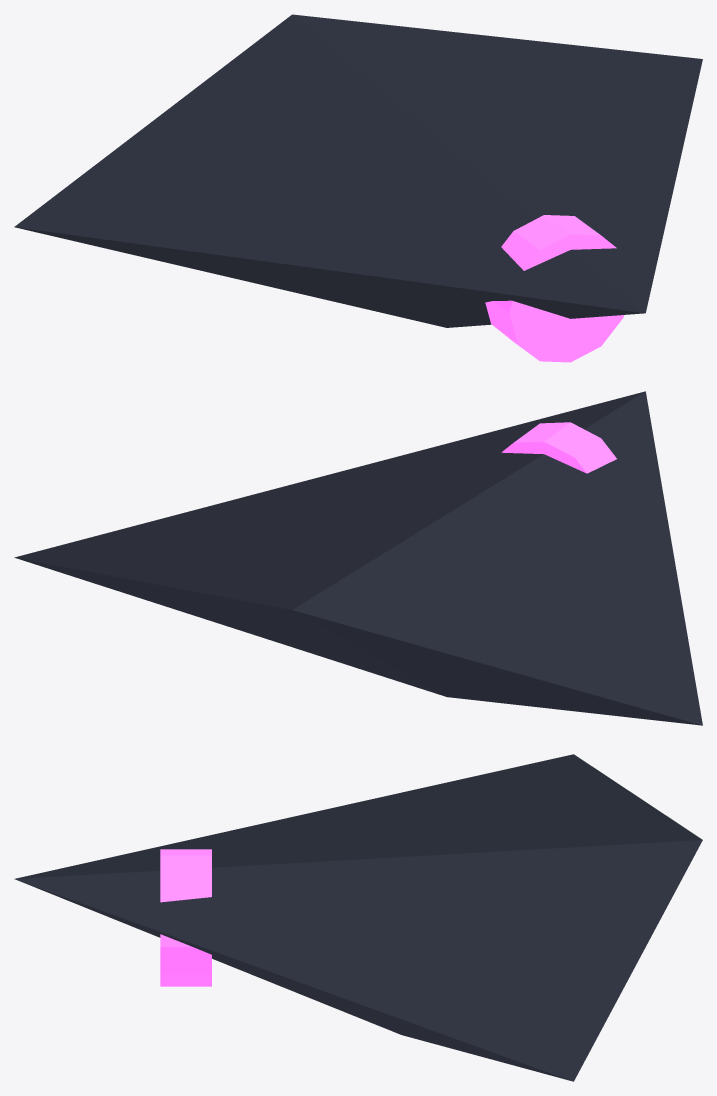
File: blackwing-drone.fbx
3 renders of one model, top to bottom at view 1: azimuth 30°, elevation 25°; view 2: azimuth 150°, elevation 25°; view 3: azimuth 270°, elevation 25°, orthographic. The views are drawn at different scales.
Parts seen in each view (by area): view 1: Blackwing_Drone__hull, Blackwing_Drone__eye; view 2: Blackwing_Drone__hull, Blackwing_Drone__eye; view 3: Blackwing_Drone__hull, Blackwing_Drone__eye.
Boxes of the visible parts, bbox=[...] form: Blackwing_Drone__hull: bbox=[14, 14, 702, 327]; Blackwing_Drone__eye: bbox=[485, 215, 624, 362]; Blackwing_Drone__hull: bbox=[14, 391, 702, 725]; Blackwing_Drone__eye: bbox=[501, 422, 616, 473]; Blackwing_Drone__hull: bbox=[14, 754, 702, 1081]; Blackwing_Drone__eye: bbox=[160, 849, 211, 986].
Size of the model in its own units: 18 by 5 by 16.
